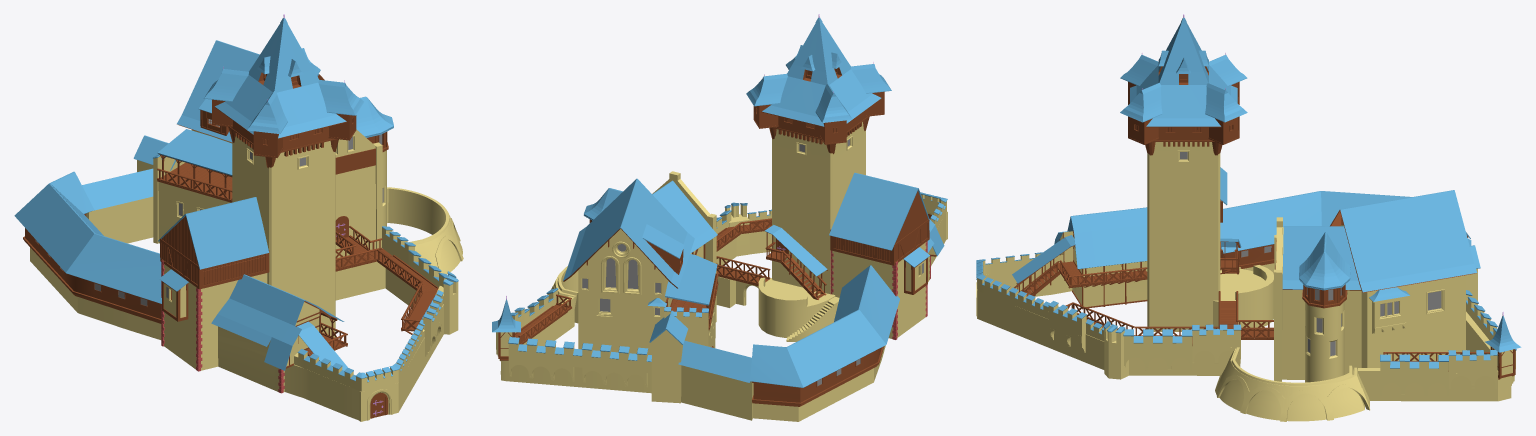
File: fangzi3.FBX
The picture shows the model from 3 angles, left to right: view 1: azimuth 30°, elevation 25°; view 2: azimuth 150°, elevation 25°; view 3: azimuth 270°, elevation 25°; orthographic projection. The views are drawn at different scales.
Parts seen in each view (by area): view 1: CastleSM_Stone_Stacked, CastleSM_RoofTiles, CastleSM_Wood_Beams, CastleSM_WoodDark (×2), CastleSM_PlasterYellow, CastleSM_PlasterBrown, CastleSM_Glass; view 2: CastleSM_Stone_Stacked, CastleSM_RoofTiles, CastleSM_Wood_Beams, CastleSM_WoodDark, CastleSM_Glass, CastleSM_PlasterBrown, CastleSM_PlasterYellow; view 3: CastleSM_Stone_Stacked, CastleSM_RoofTiles, CastleSM_Wood_Beams, CastleSM_WoodDark, CastleSM_Glass, CastleSM_PlasterYellow.
Boxes of the visible parts, x1,y1,x2,y2 form: CastleSM_Stone_Stacked: [30, 129, 463, 421]; CastleSM_RoofTiles: [14, 18, 458, 382]; CastleSM_Wood_Beams: [24, 74, 438, 368]; CastleSM_WoodDark (×2): [23, 72, 388, 418]; CastleSM_PlasterYellow: [164, 283, 319, 366]; CastleSM_PlasterBrown: [161, 260, 284, 393]; CastleSM_Glass: [35, 119, 383, 306]; CastleSM_Stone_Stacked: [496, 122, 947, 421]; CastleSM_RoofTiles: [492, 17, 947, 387]; CastleSM_Wood_Beams: [498, 68, 936, 406]; CastleSM_WoodDark: [563, 67, 884, 404]; CastleSM_Glass: [582, 139, 923, 386]; CastleSM_PlasterBrown: [830, 241, 930, 339]; CastleSM_PlasterYellow: [905, 246, 935, 291]; CastleSM_Stone_Stacked: [976, 142, 1515, 421]; CastleSM_RoofTiles: [976, 18, 1521, 368]; CastleSM_Wood_Beams: [1014, 74, 1515, 379]; CastleSM_WoodDark: [1129, 66, 1476, 304]; CastleSM_Glass: [1180, 152, 1441, 355]; CastleSM_PlasterYellow: [1059, 231, 1147, 276].
Size of the model in its own units: 44.14 by 36.13 by 58.8.
